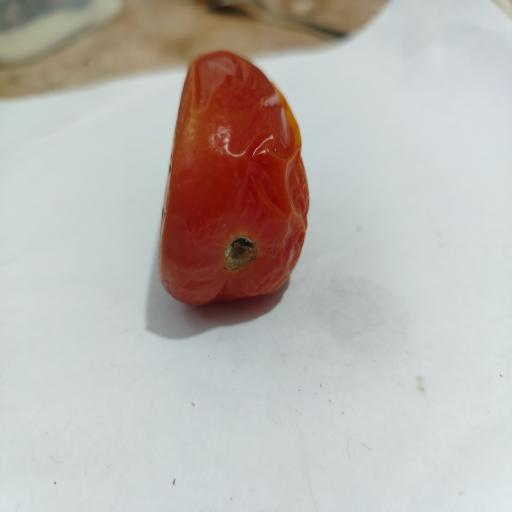spoiled: (159, 52, 309, 304)
